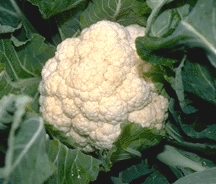cauliflower: (37, 18, 171, 151)
